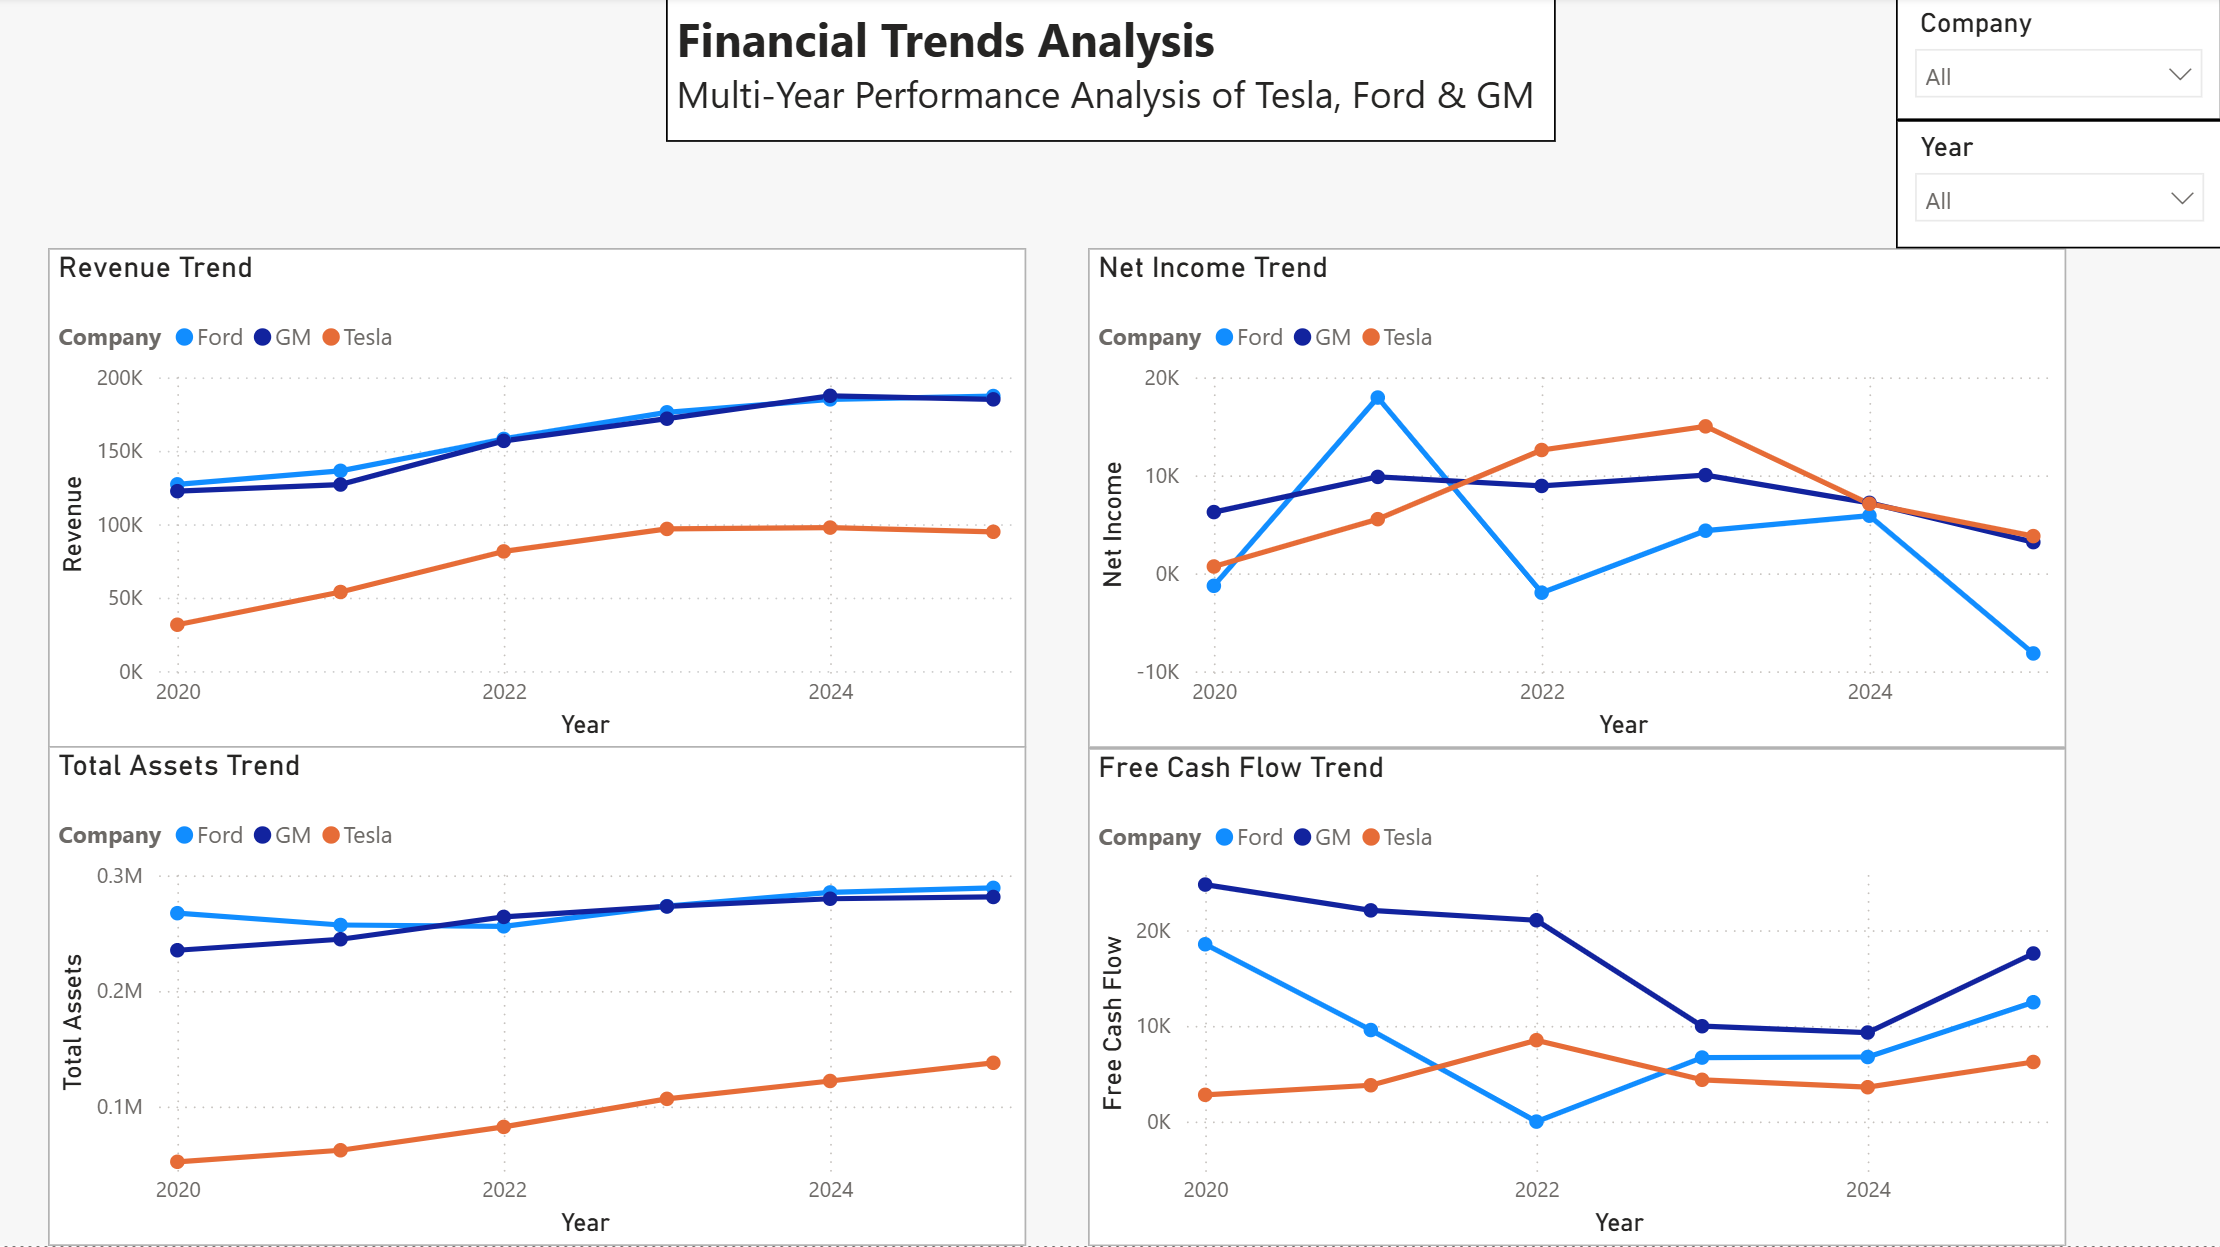

The dashboard page shown, as its layout file describes it:
{"tool":"powerbi","page":{"name":"Financial Trends","canvas":[1280,720],"ordinal":2},"visuals":[{"type":"textbox","box":[383.7,0,512.5,84.1],"z":0},{"type":"lineChart","title":"Revenue Trend","fields":{"Category":["Calendar.Year"],"Series":["Companies.Company"],"Y":["Income_Statement.Revenue"]},"box":[28,145.3,563.5,288],"z":1},{"type":"lineChart","title":"Net Income Trend","fields":{"Category":["Calendar.Year"],"Series":["Companies.Company"],"Y":["Income_Statement.Net Income"]},"box":[627.3,145.3,563.5,288.1],"z":2},{"type":"lineChart","title":"Total Assets Trend","fields":{"Category":["Calendar.Year"],"Series":["Companies.Company"],"Y":["Income_Statement.Total Assets"]},"box":[28,432.2,563.5,288],"z":3},{"type":"lineChart","title":"Free Cash Flow Trend","fields":{"Category":["Calendar.Year"],"Series":["Companies.Company"],"Y":["Cash_Flow.Free Cash Flow"]},"box":[627.3,433.5,563.5,287],"z":4},{"type":"slicer","fields":{"Values":["Companies.Company"]},"box":[1092.6,0,187.4,71.4],"z":5},{"type":"slicer","fields":{"Values":["Calendar.Year"]},"box":[1092.6,71.4,188.7,73.9],"z":6}]}

Visuals, with their boxes in screenshot pixels (x1, y1, x2, y2), scaled from the page's 1280x720 canvas onto the 2220x1247 screenshot:
textbox: rect(665, 0, 1554, 146)
"Revenue Trend" lineChart: rect(49, 252, 1026, 750)
"Net Income Trend" lineChart: rect(1088, 252, 2065, 751)
"Total Assets Trend" lineChart: rect(49, 749, 1026, 1246)
"Free Cash Flow Trend" lineChart: rect(1088, 751, 2065, 1246)
slicer - Companies.Company: rect(1895, 0, 2219, 124)
slicer - Calendar.Year: rect(1895, 124, 2219, 252)
